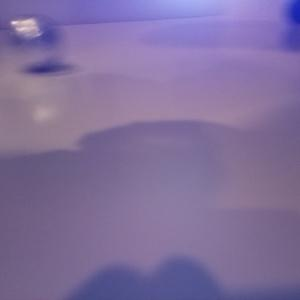alive_ball: (4, 14, 62, 71)
dead_ball: (284, 1, 300, 28)
